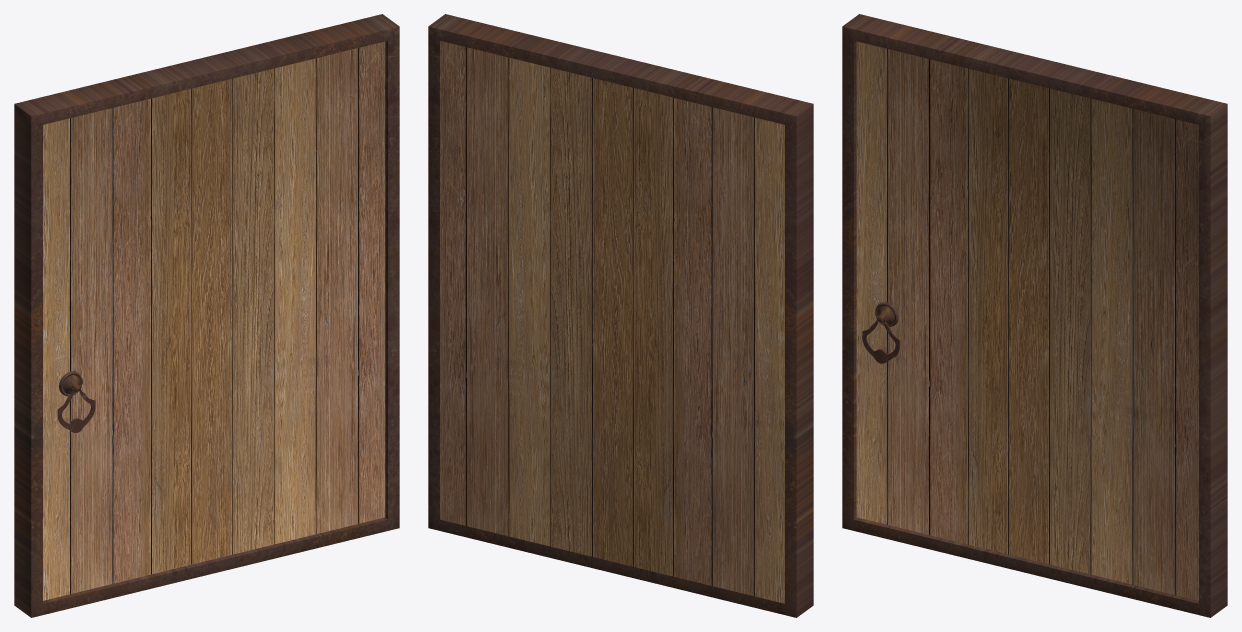
File: right-outside-door.gltf
The picture shows the model from 3 angles, left to right: view 1: azimuth 30°, elevation 25°; view 2: azimuth 150°, elevation 25°; view 3: azimuth 330°, elevation 25°; orthographic projection.
Visible parts, largest first — view 1: Big Old Gates; view 2: Big Old Gates; view 3: Big Old Gates.
Part boxes in pixels (left/top/right/bottom): Big Old Gates: left=14, top=14, right=399, bottom=617; Big Old Gates: left=428, top=14, right=813, bottom=617; Big Old Gates: left=842, top=14, right=1227, bottom=617.
Size of the model in its own units: 1.97 by 2.57 by 0.2025.
Materials: 2 (2 with a texture image).
